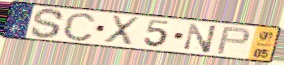5: (141, 19, 173, 48)
C: (61, 11, 98, 43)
N: (183, 22, 220, 54)
P: (214, 26, 252, 56)
S: (28, 8, 66, 40)
X: (101, 14, 141, 47)
